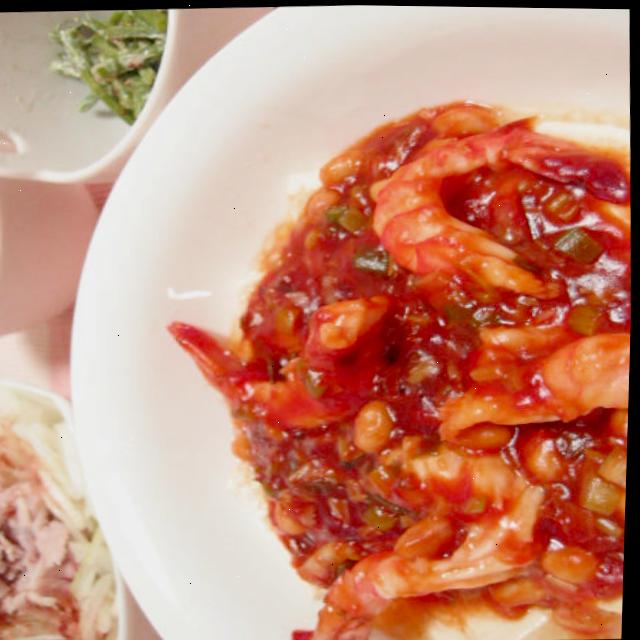熟制海鲜: (120, 2, 640, 640)
